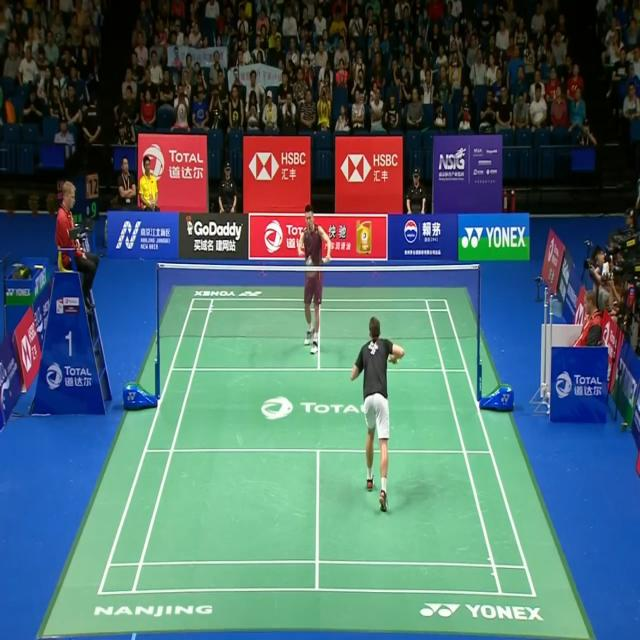Player1: (345, 312, 407, 515)
Player2: (294, 205, 334, 363)
